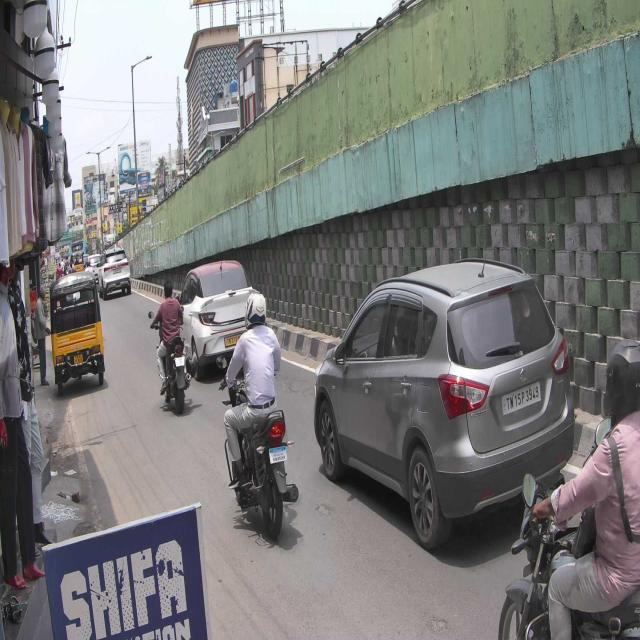single_rider: (217, 288, 298, 541)
